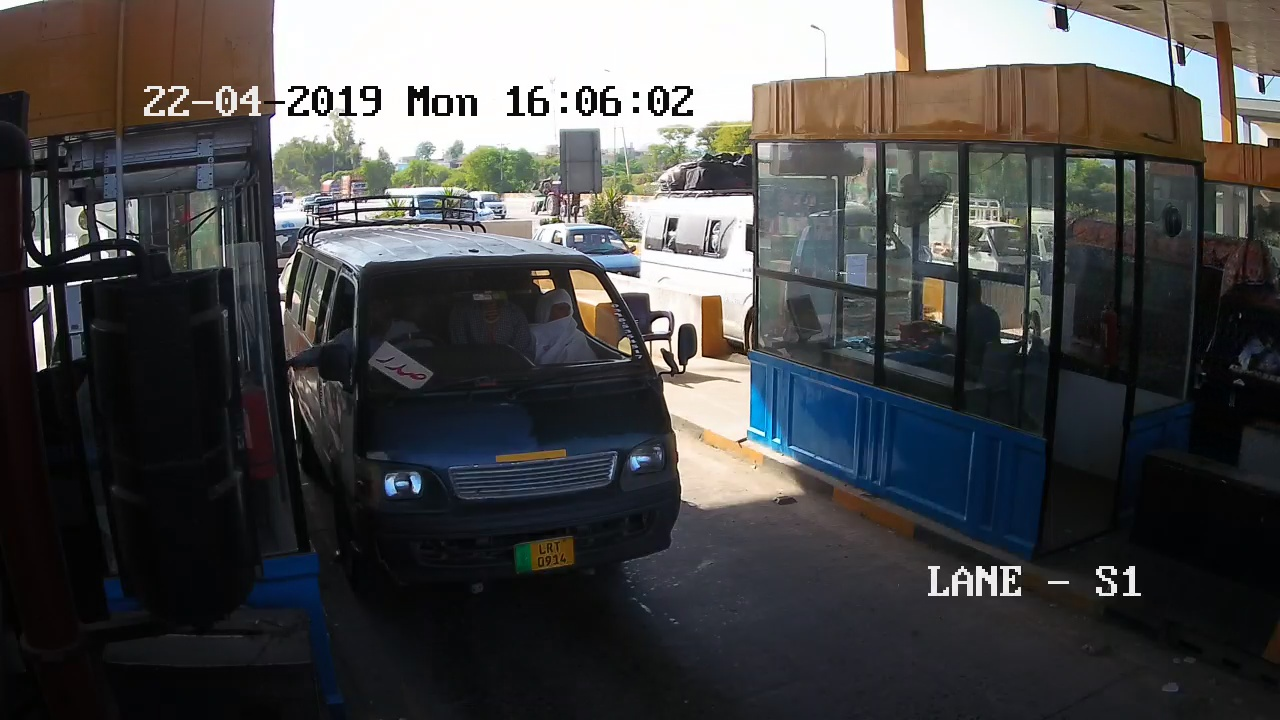Number Plate (Car): (515, 539, 577, 569)
